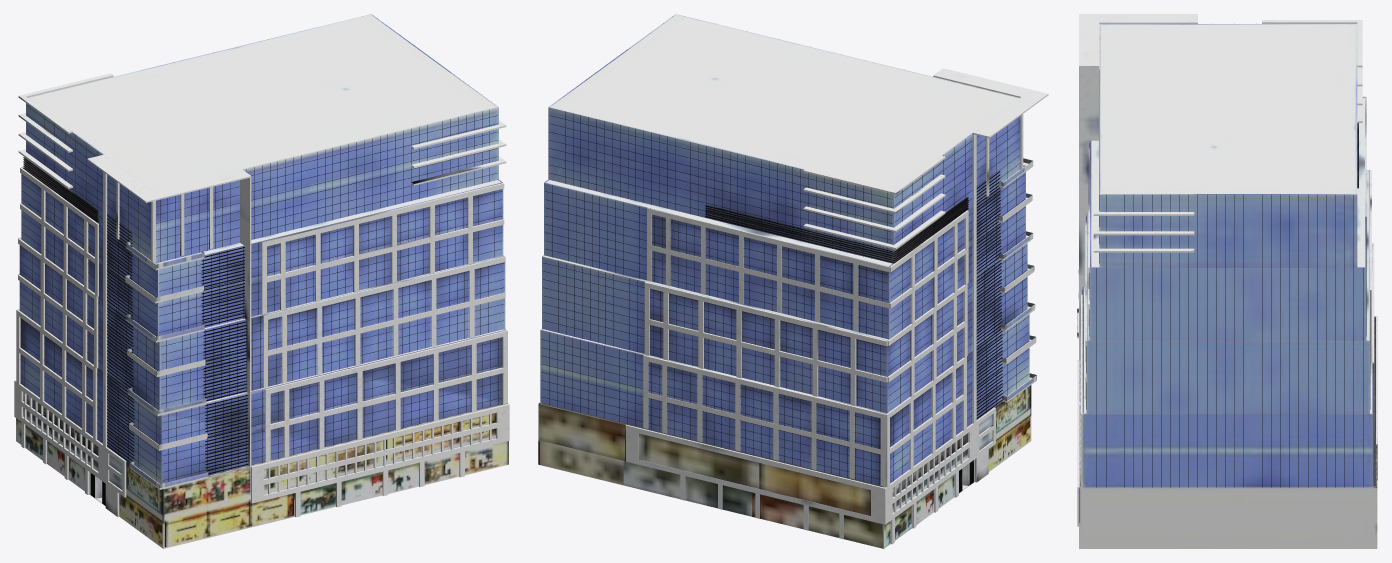
Rendered from mall_exterior_optimised.glb.
The picture shows the model from 3 angles, left to right: view 1: azimuth 30°, elevation 25°; view 2: azimuth 150°, elevation 25°; view 3: azimuth 270°, elevation 25°; orthographic projection.
Parts seen in each view (by area): view 1: part5, part6, part7, part4, part3, part2, part1; view 2: part5, part7, part6, part4, part3, part1, part2; view 3: part5, part6, part4, part3, part2, part7, part1.
Boxes of the visible parts, bbox=[...] form: part5: bbox=[21, 15, 503, 336]; part6: bbox=[14, 14, 509, 503]; part7: bbox=[14, 105, 503, 517]; part4: bbox=[19, 167, 505, 410]; part3: bbox=[19, 255, 506, 483]; part2: bbox=[16, 329, 508, 548]; part1: bbox=[18, 73, 506, 489]; part5: bbox=[544, 15, 1025, 339]; part7: bbox=[539, 111, 1036, 548]; part6: bbox=[548, 14, 1048, 523]; part4: bbox=[542, 180, 1027, 412]; part3: bbox=[540, 255, 1029, 485]; part1: bbox=[540, 114, 1036, 487]; part2: bbox=[538, 329, 1031, 548]; part5: bbox=[1090, 24, 1366, 340]; part6: bbox=[1077, 14, 1375, 523]; part4: bbox=[1086, 97, 1369, 414]; part3: bbox=[1082, 171, 1373, 487]; part2: bbox=[1079, 244, 1377, 548]; part7: bbox=[1077, 70, 1377, 526]; part1: bbox=[1077, 20, 1375, 486].
Size of the model in its own units: 35.66 by 32.61 by 24.96.
8 materials, 8 textured.
